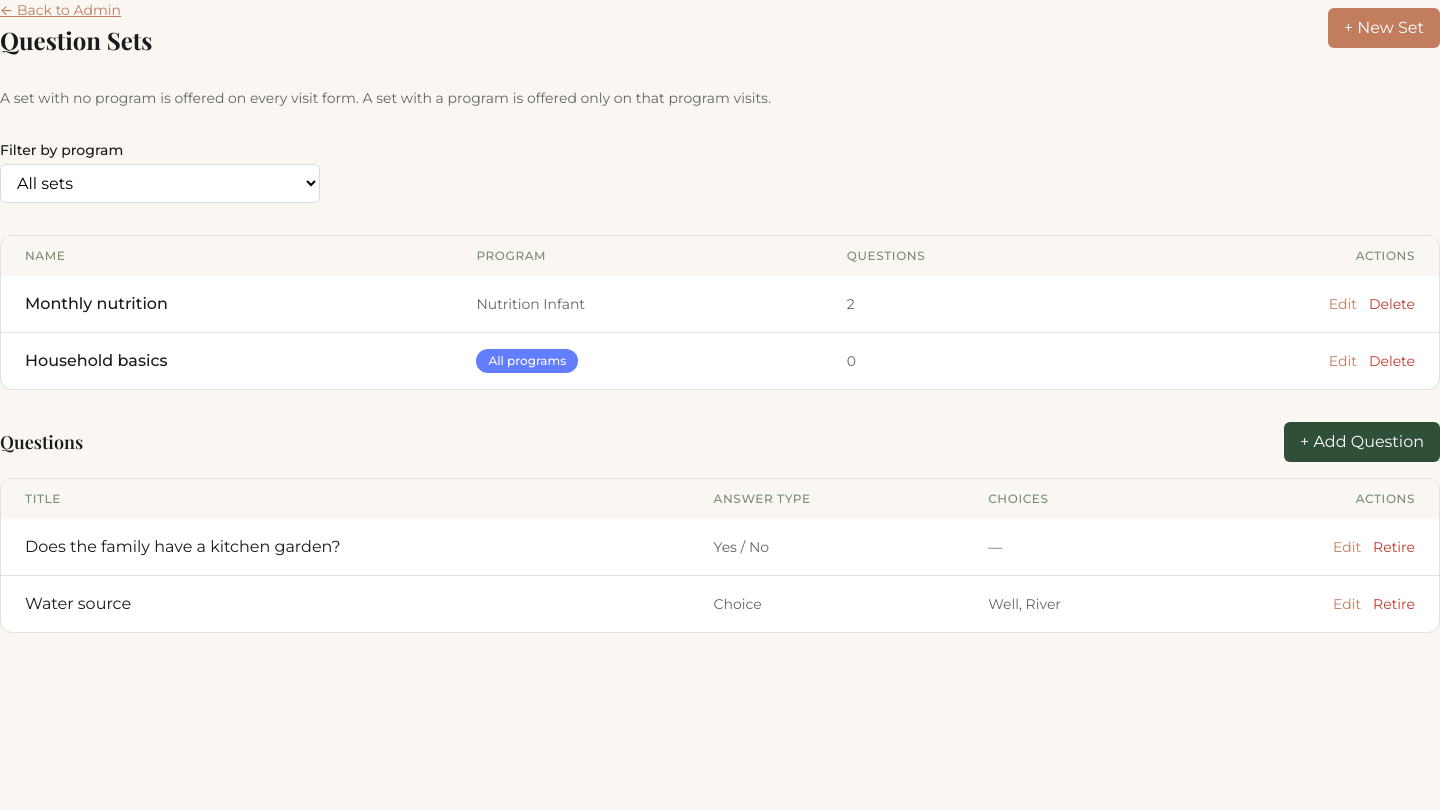
Scenario: AdminQuestionSetsPage › frames deleting a question as retirement, not removal from its sets
Click the button "Retire" in the row of "Water source" at (1394, 604), box [1373,594,1415,614]
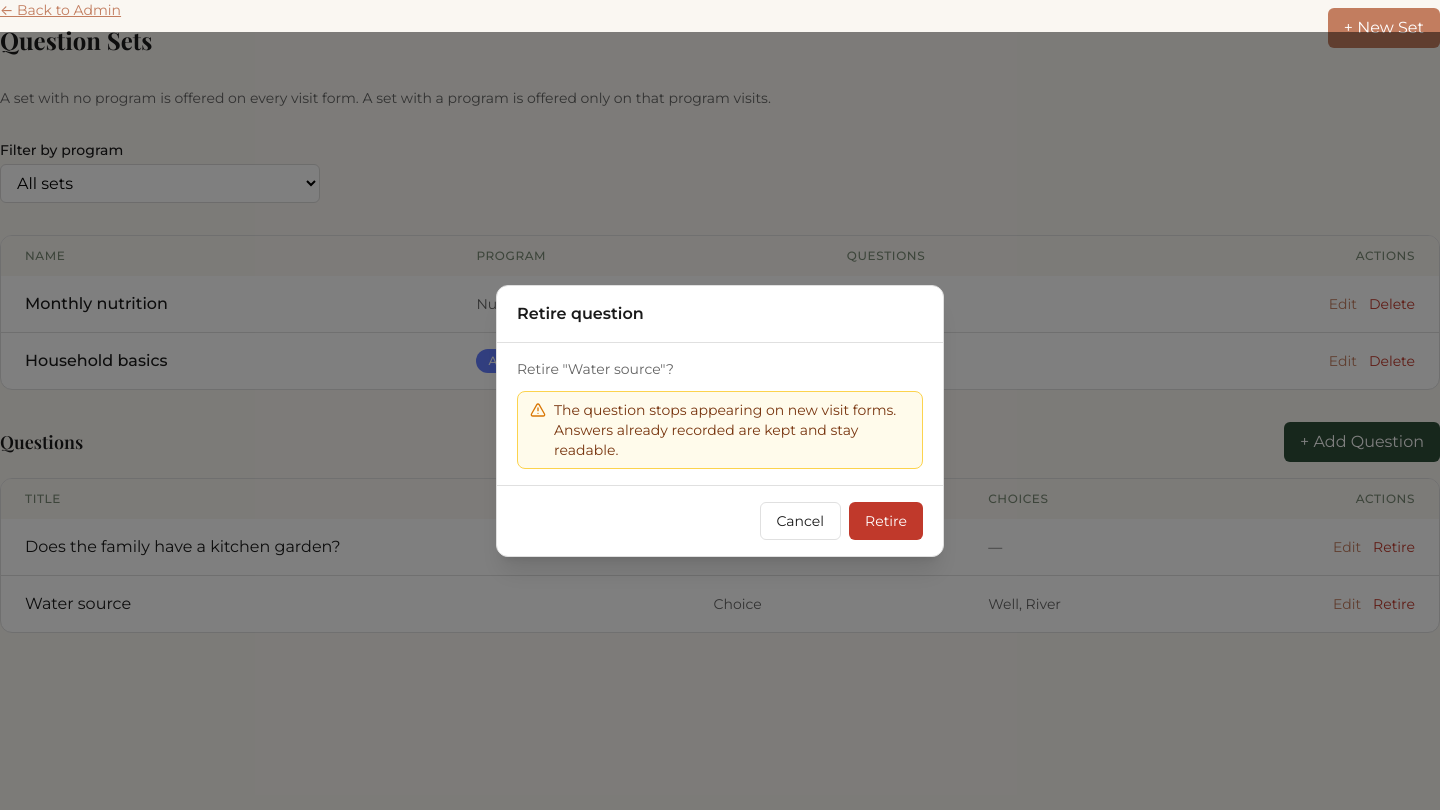
Check: the heading "Retire question" is shown, box [517,304,644,323]
Check: the text "The question stops appearing on new visit forms. Answers already recorded are kept and stay readable." is shown, box [554,401,896,459]
